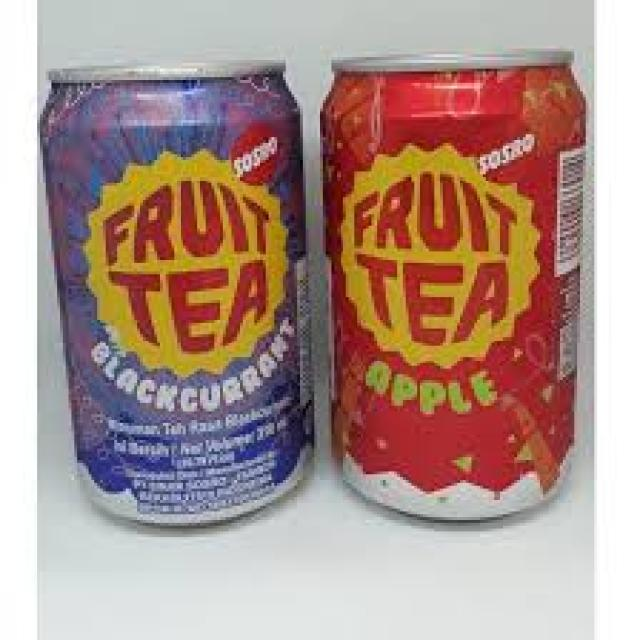Kaleng: (317, 46, 589, 526), (34, 60, 309, 526)
